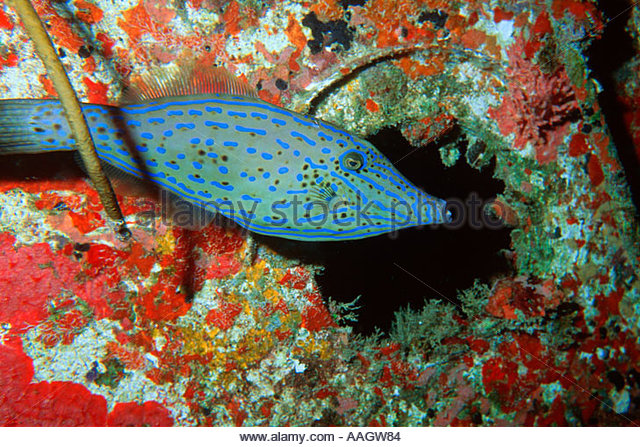Aluterus_scriptus: (1, 87, 459, 244)
